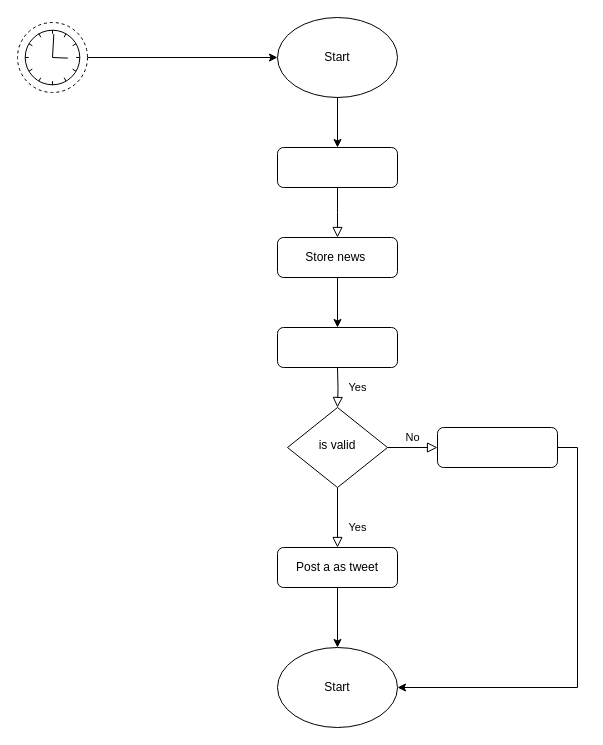
The diagram is 603 pixels wide and 745 high, and some of its shapes have lost their labels. Here are the shapes that lost their labels. From the top down, the centre of each, then its label:
the point at 337,167: Read News
the point at 337,347: Paraphrasing
the point at 497,447: Discarded
